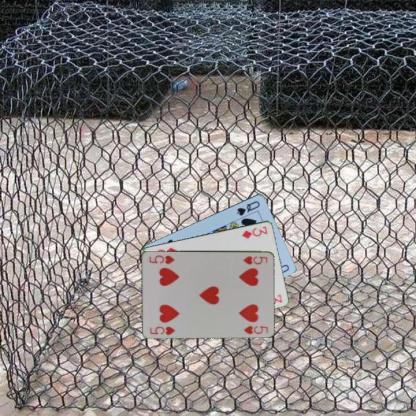3d: (239, 223, 269, 240)
5h: (148, 324, 176, 336), (241, 254, 269, 265)
Qs: (234, 198, 261, 217)
